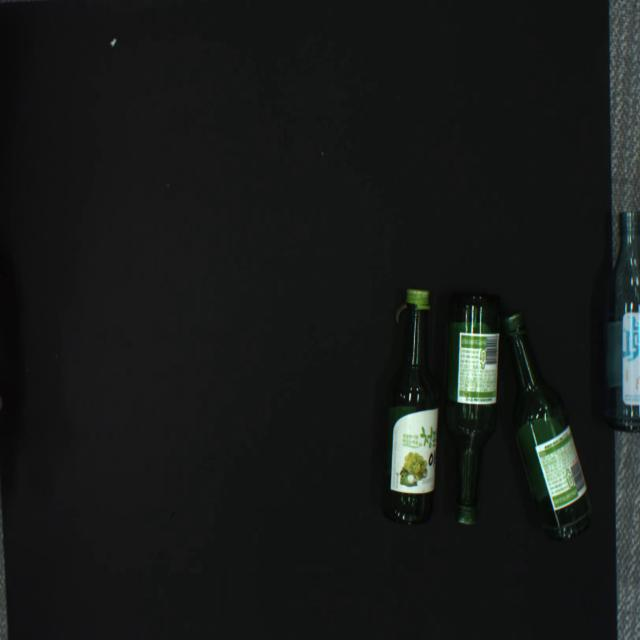soju-bottle: (503, 312, 593, 541), (381, 289, 440, 526), (443, 295, 503, 525), (601, 210, 640, 433)
